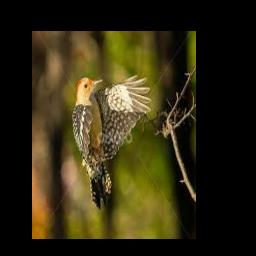Woodpecker: (72, 75, 151, 209)
